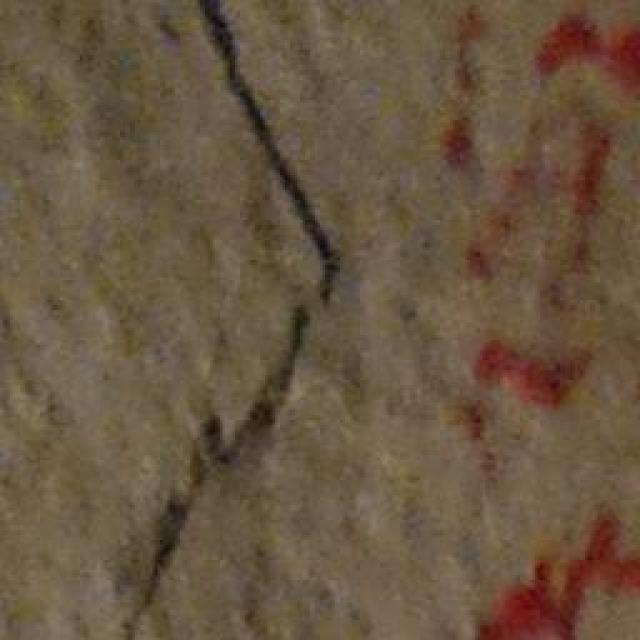Longitudinal: (94, 0, 360, 640)
Rippled: (430, 2, 640, 640)
